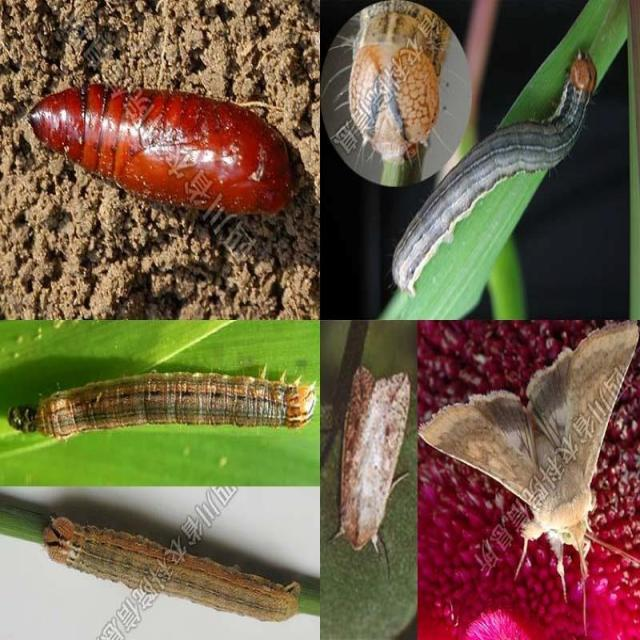army worm: (417, 322, 636, 593), (382, 48, 609, 300), (20, 69, 297, 234), (40, 509, 301, 632), (5, 371, 312, 440), (341, 11, 448, 166), (333, 364, 405, 562)
